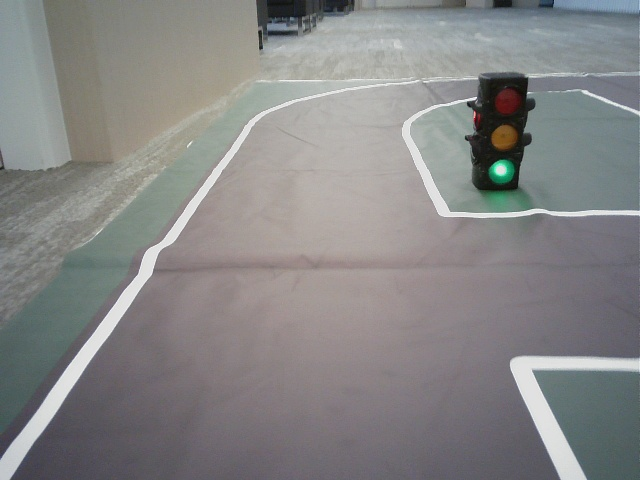green: (482, 81, 527, 188)
